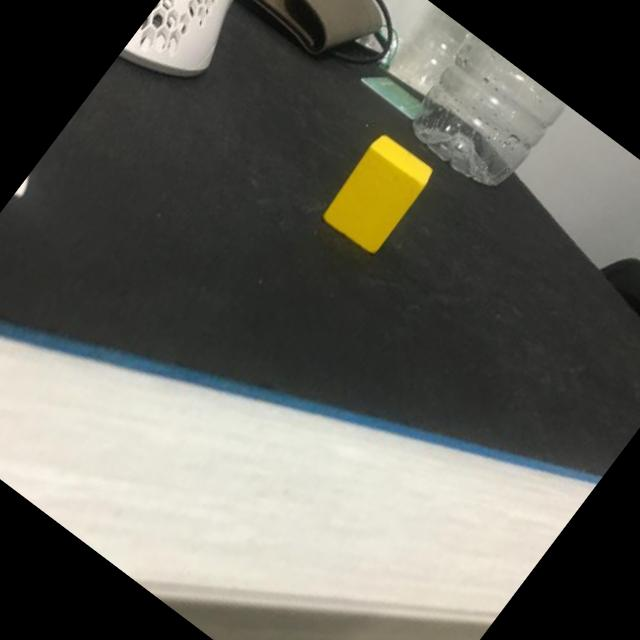yellow: (318, 132, 436, 256)
